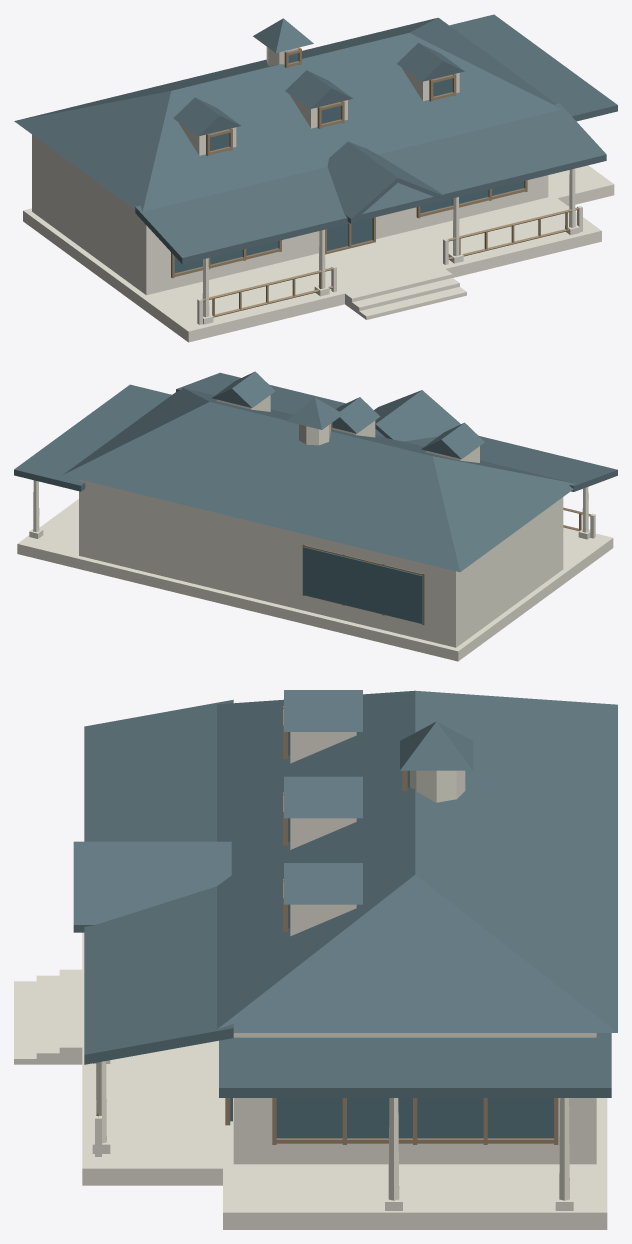
Rendered from clubhouse_pavilion_v2.glb.
The picture shows the model from 3 angles, top to bottom: view 1: azimuth 30°, elevation 25°; view 2: azimuth 150°, elevation 25°; view 3: azimuth 270°, elevation 25°; orthographic projection. The views are drawn at different scales.
Parts seen in each view (by area): view 1: Clubhouse_pavilion_v2; view 2: Clubhouse_pavilion_v2; view 3: Clubhouse_pavilion_v2.
Boxes of the visible parts, left/top/right/bottom form: Clubhouse_pavilion_v2: left=14, top=14, right=617, bottom=342; Clubhouse_pavilion_v2: left=14, top=371, right=617, bottom=661; Clubhouse_pavilion_v2: left=14, top=690, right=617, bottom=1229.
Size of the model in its own units: 20.93 by 8.03 by 14.44.
